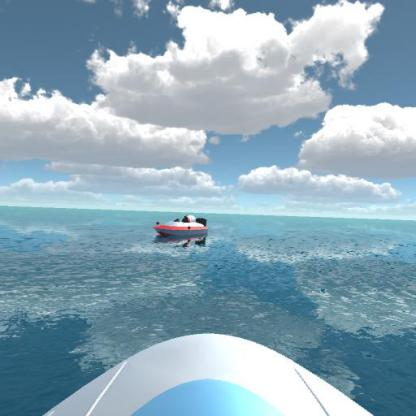usv3: (150, 210, 211, 248)
